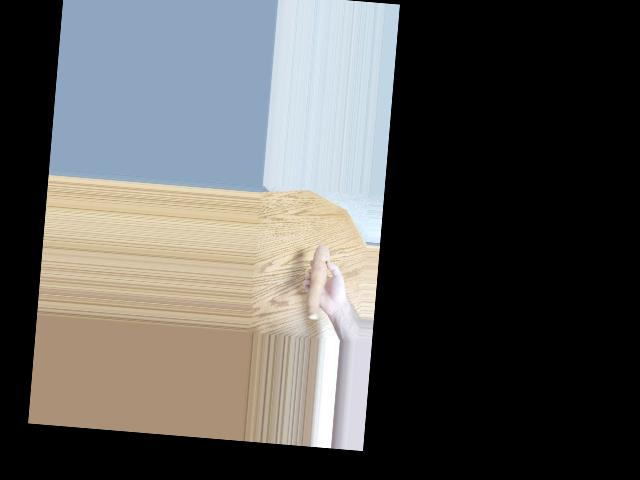sweet_potato: (302, 243, 326, 314)
